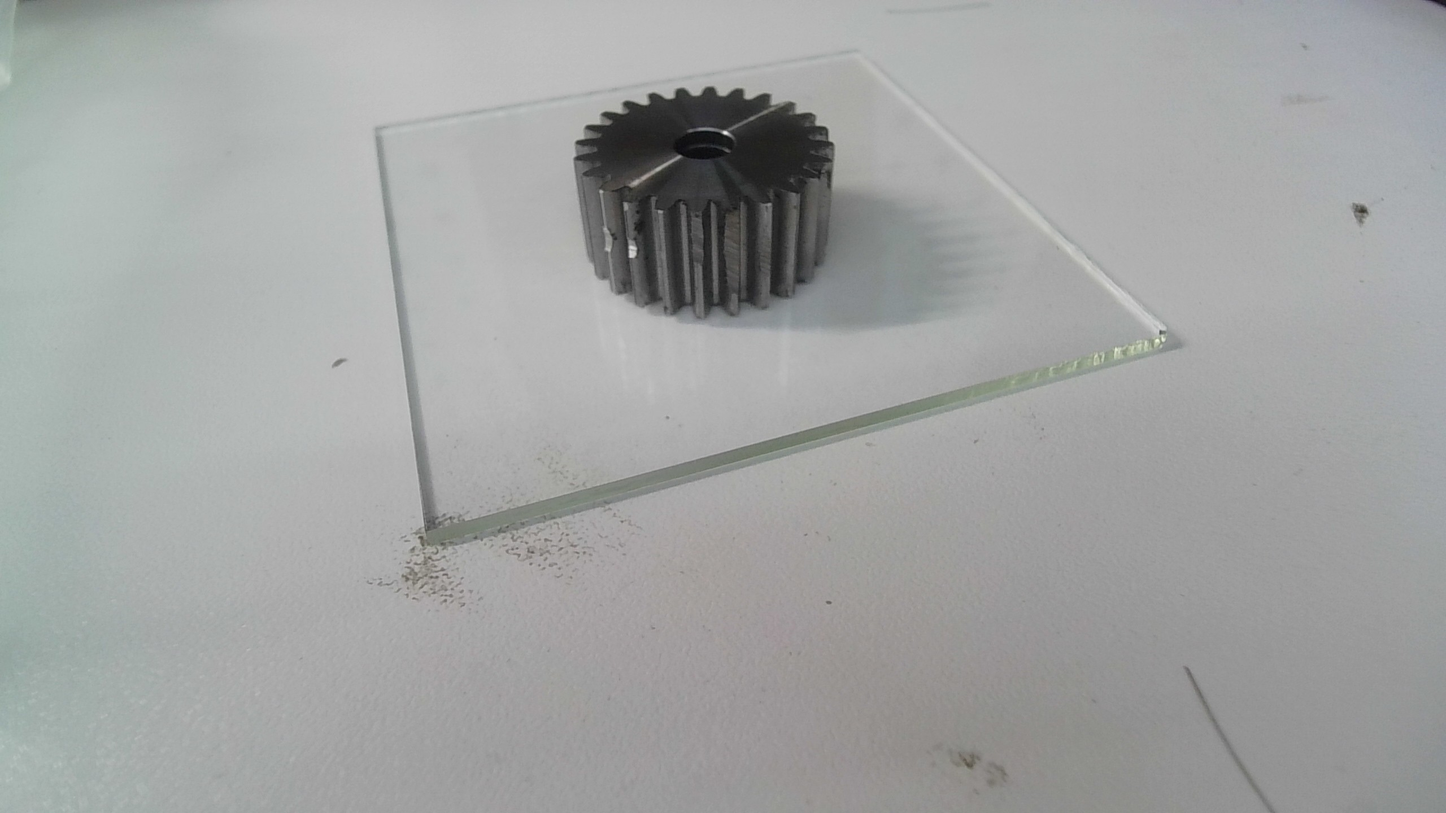gear: (569, 84, 837, 322)
